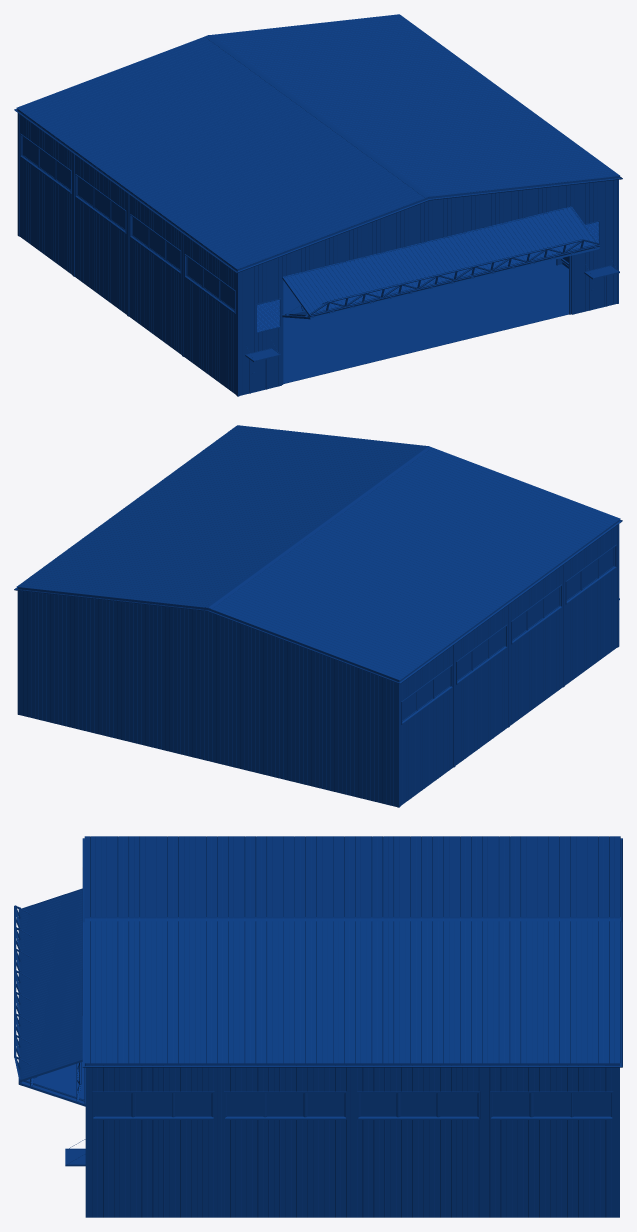
The model's file is Airport Hangar Open 01.obj.
The picture shows the model from 3 angles, top to bottom: view 1: azimuth 30°, elevation 25°; view 2: azimuth 150°, elevation 25°; view 3: azimuth 270°, elevation 25°; orthographic projection. The views are drawn at different scales.
Parts seen in each view (by area): view 1: Airport_Hangar_Open_01; view 2: Airport_Hangar_Open_01; view 3: Airport_Hangar_Open_01.
Part boxes in pixels (<box>): Airport_Hangar_Open_01: <box>14,14,622,396</box>; Airport_Hangar_Open_01: <box>14,425,622,807</box>; Airport_Hangar_Open_01: <box>14,836,622,1217</box>.
Bounding box in the file's own units: 21356 × 8122 × 24046.
